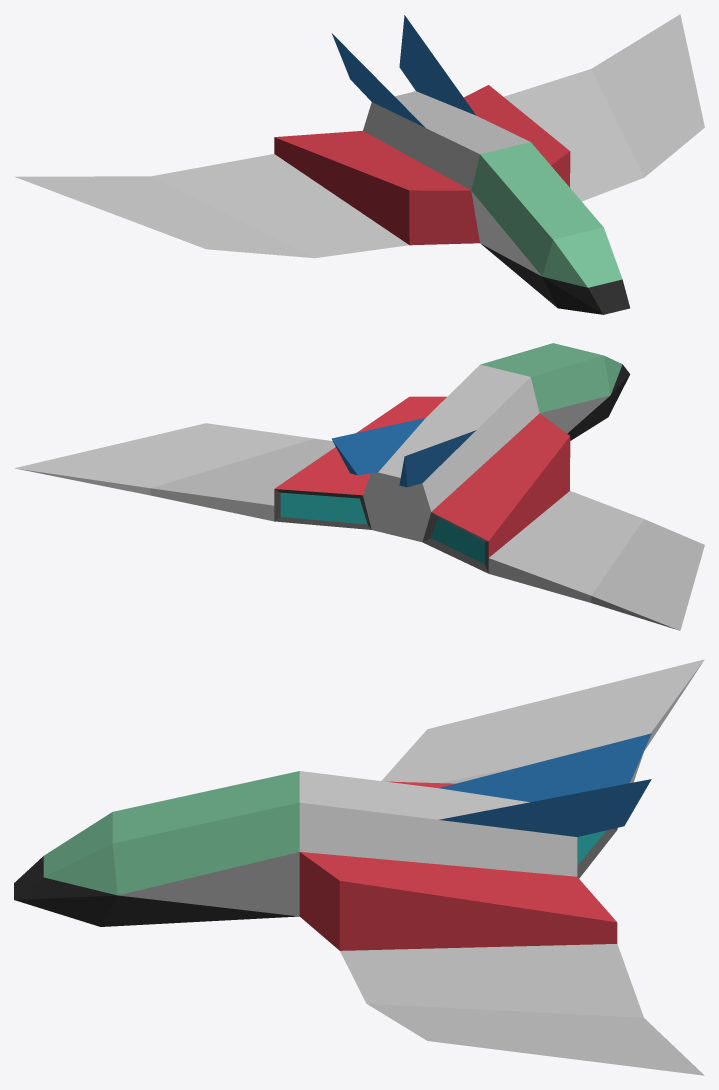
File: Pawn.fbx
The picture shows the model from 3 angles, top to bottom: view 1: azimuth 30°, elevation 25°; view 2: azimuth 150°, elevation 25°; view 3: azimuth 270°, elevation 25°; orthographic projection. The views are drawn at different scales.
Visible parts, largest first — view 1: Pawn; view 2: Pawn; view 3: Pawn.
Part boxes in pixels (<box>): Pawn: <box>14,14,704,314</box>; Pawn: <box>15,343,704,630</box>; Pawn: <box>14,659,704,1075</box>.
Bounding box in the file's own units: 24.86 × 4.32 × 17.42.
